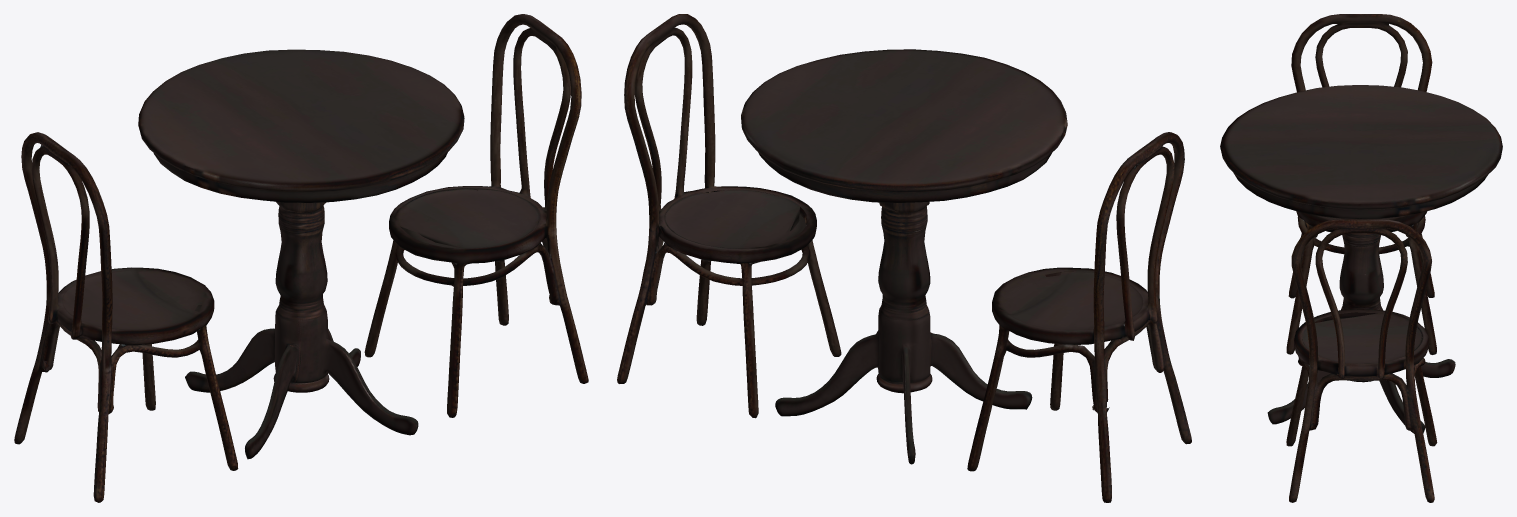
Rendered from dark+wood+dining+table+3d+model.obj.
The picture shows the model from 3 angles, left to right: view 1: azimuth 30°, elevation 25°; view 2: azimuth 150°, elevation 25°; view 3: azimuth 270°, elevation 25°; orthographic projection. The views are drawn at different scales.
Parts seen in each view (by area): view 1: tripo_mesh_8872ded1; view 2: tripo_mesh_8872ded1; view 3: tripo_mesh_8872ded1.
Part boxes in pixels (bbox=[...]): tripo_mesh_8872ded1: bbox=[14, 14, 588, 502]; tripo_mesh_8872ded1: bbox=[617, 14, 1191, 502]; tripo_mesh_8872ded1: bbox=[1220, 14, 1502, 502].
Size of the model in its own units: 97.58 by 61.6 by 55.79.
1 material, 1 textured.
